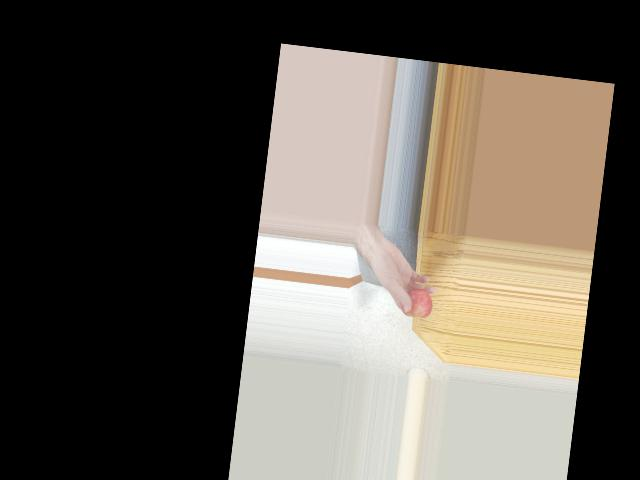apple: (400, 286, 433, 321)
